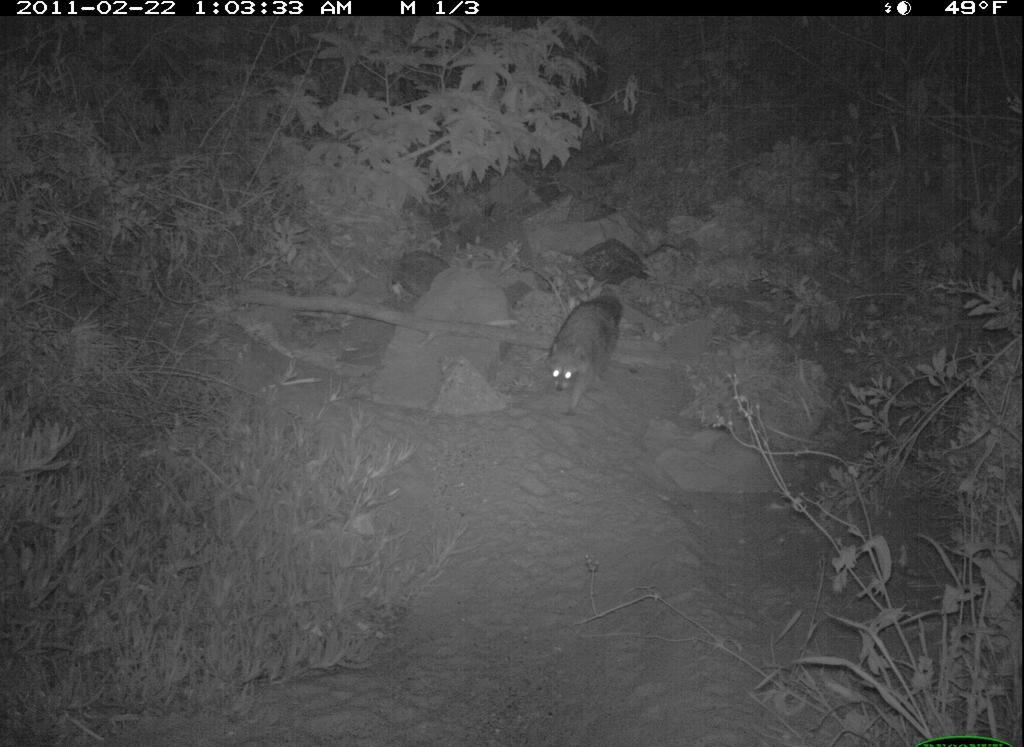raccoon: (543, 290, 630, 420)
